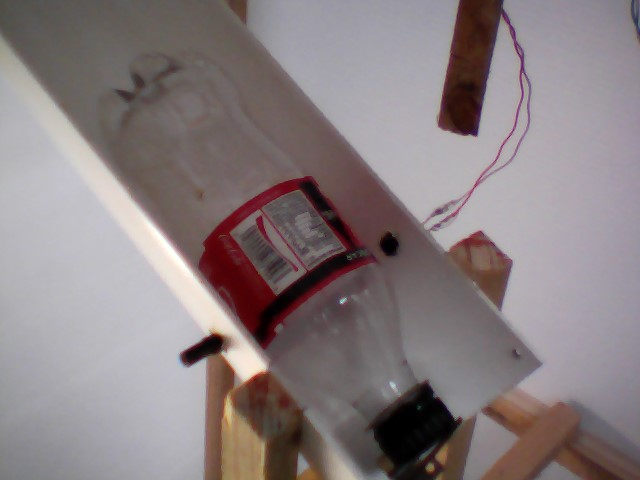plastico: (97, 38, 463, 466)
